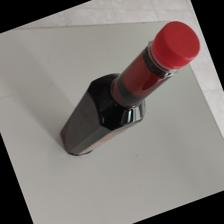Namngu: (59, 21, 200, 160)
